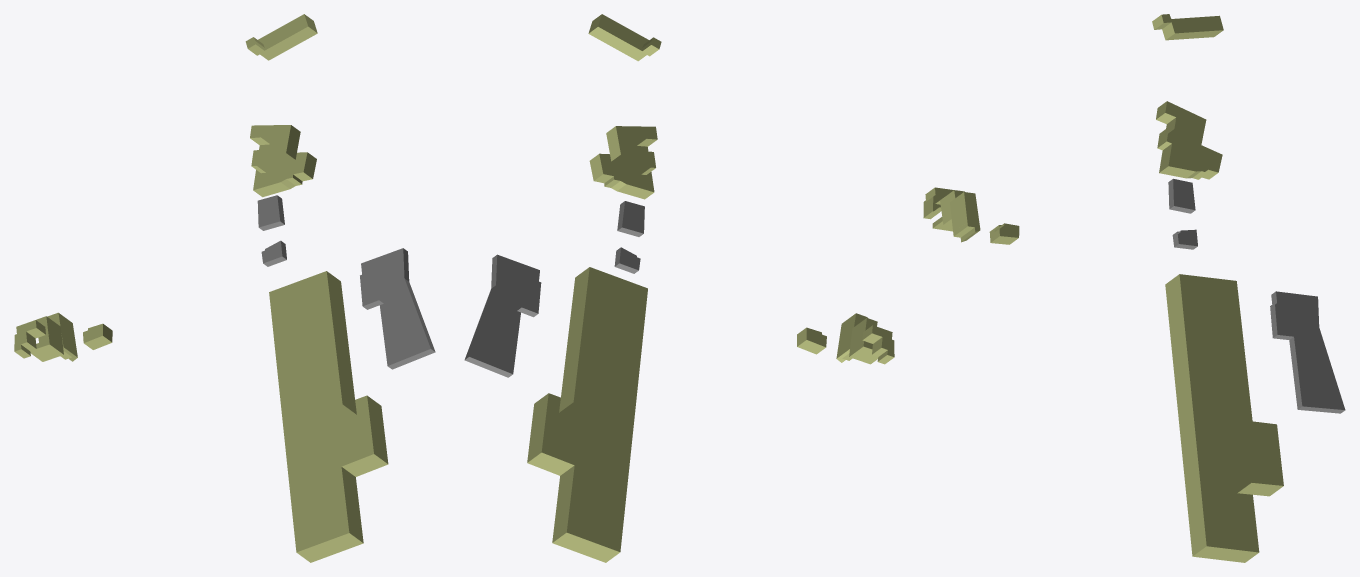
3 renders of one model, left to right at view 1: azimuth 30°, elevation 25°; view 2: azimuth 150°, elevation 25°; view 3: azimuth 330°, elevation 25°, orthographic.
Parts seen in each view (by area): view 1: 0_1_1_3_3_1_3; view 2: 0_1_1_3_3_1_3; view 3: 0_1_1_3_3_1_3.
Part boxes in pixels (x1,y1,x2,y2): 0_1_1_3_3_1_3: (14, 14, 435, 562); 0_1_1_3_3_1_3: (464, 14, 894, 562); 0_1_1_3_3_1_3: (923, 14, 1345, 562).
Size of the model in its own units: 151 by 185 by 11.16.
